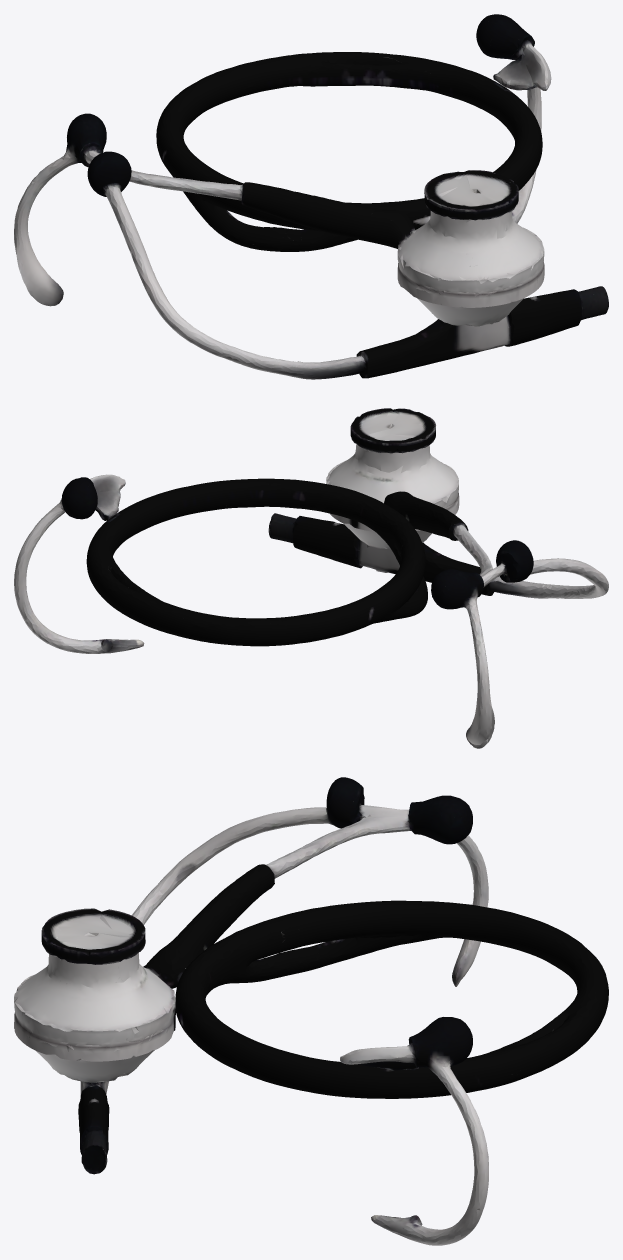
Rendered from stethoscope.glb.
3 renders of one model, top to bottom at view 1: azimuth 30°, elevation 25°; view 2: azimuth 150°, elevation 25°; view 3: azimuth 270°, elevation 25°, orthographic. The views are drawn at different scales.
Parts seen in each view (by area): view 1: model; view 2: model; view 3: model.
Part boxes in pixels (x1,y1,x2,y2): model: (14,14,608,379); model: (14,408,608,748); model: (14,777,608,1245).
Size of the model in its own units: 1.89 by 0.7052 by 1.67.
1 material, 1 textured.
